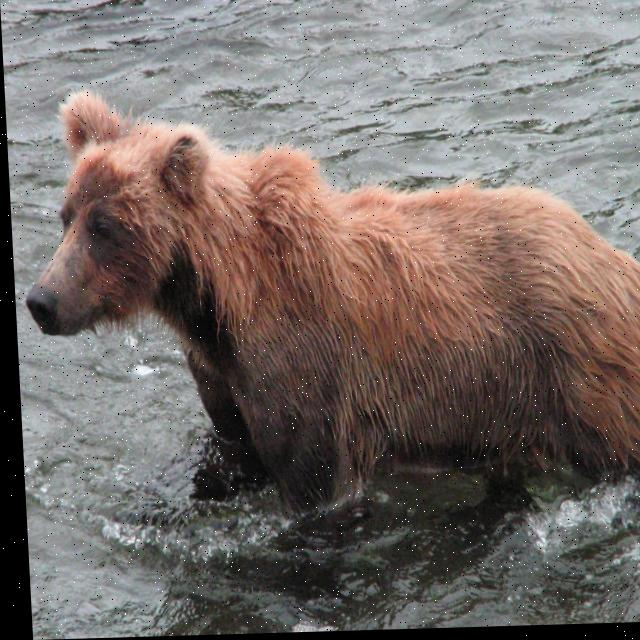bear face: (13, 81, 640, 501)
